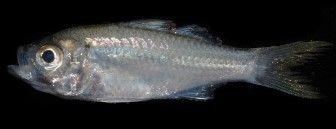Glass Perchlet: (8, 18, 335, 106)
